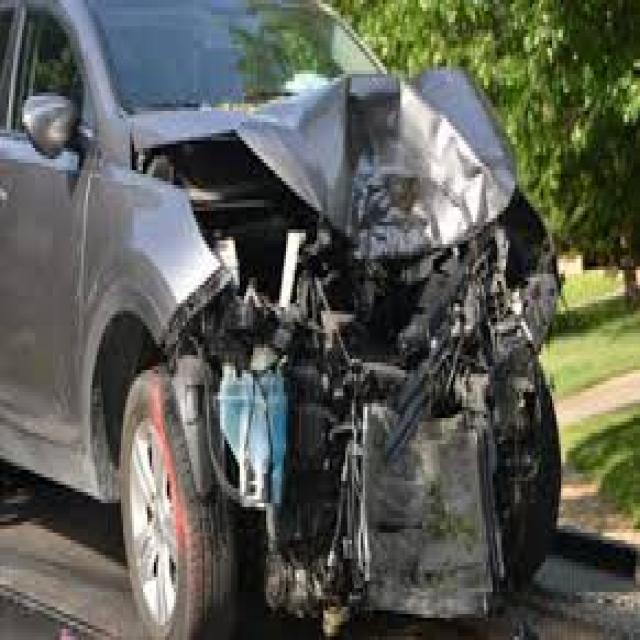Severe Damage: (142, 132, 568, 620)
